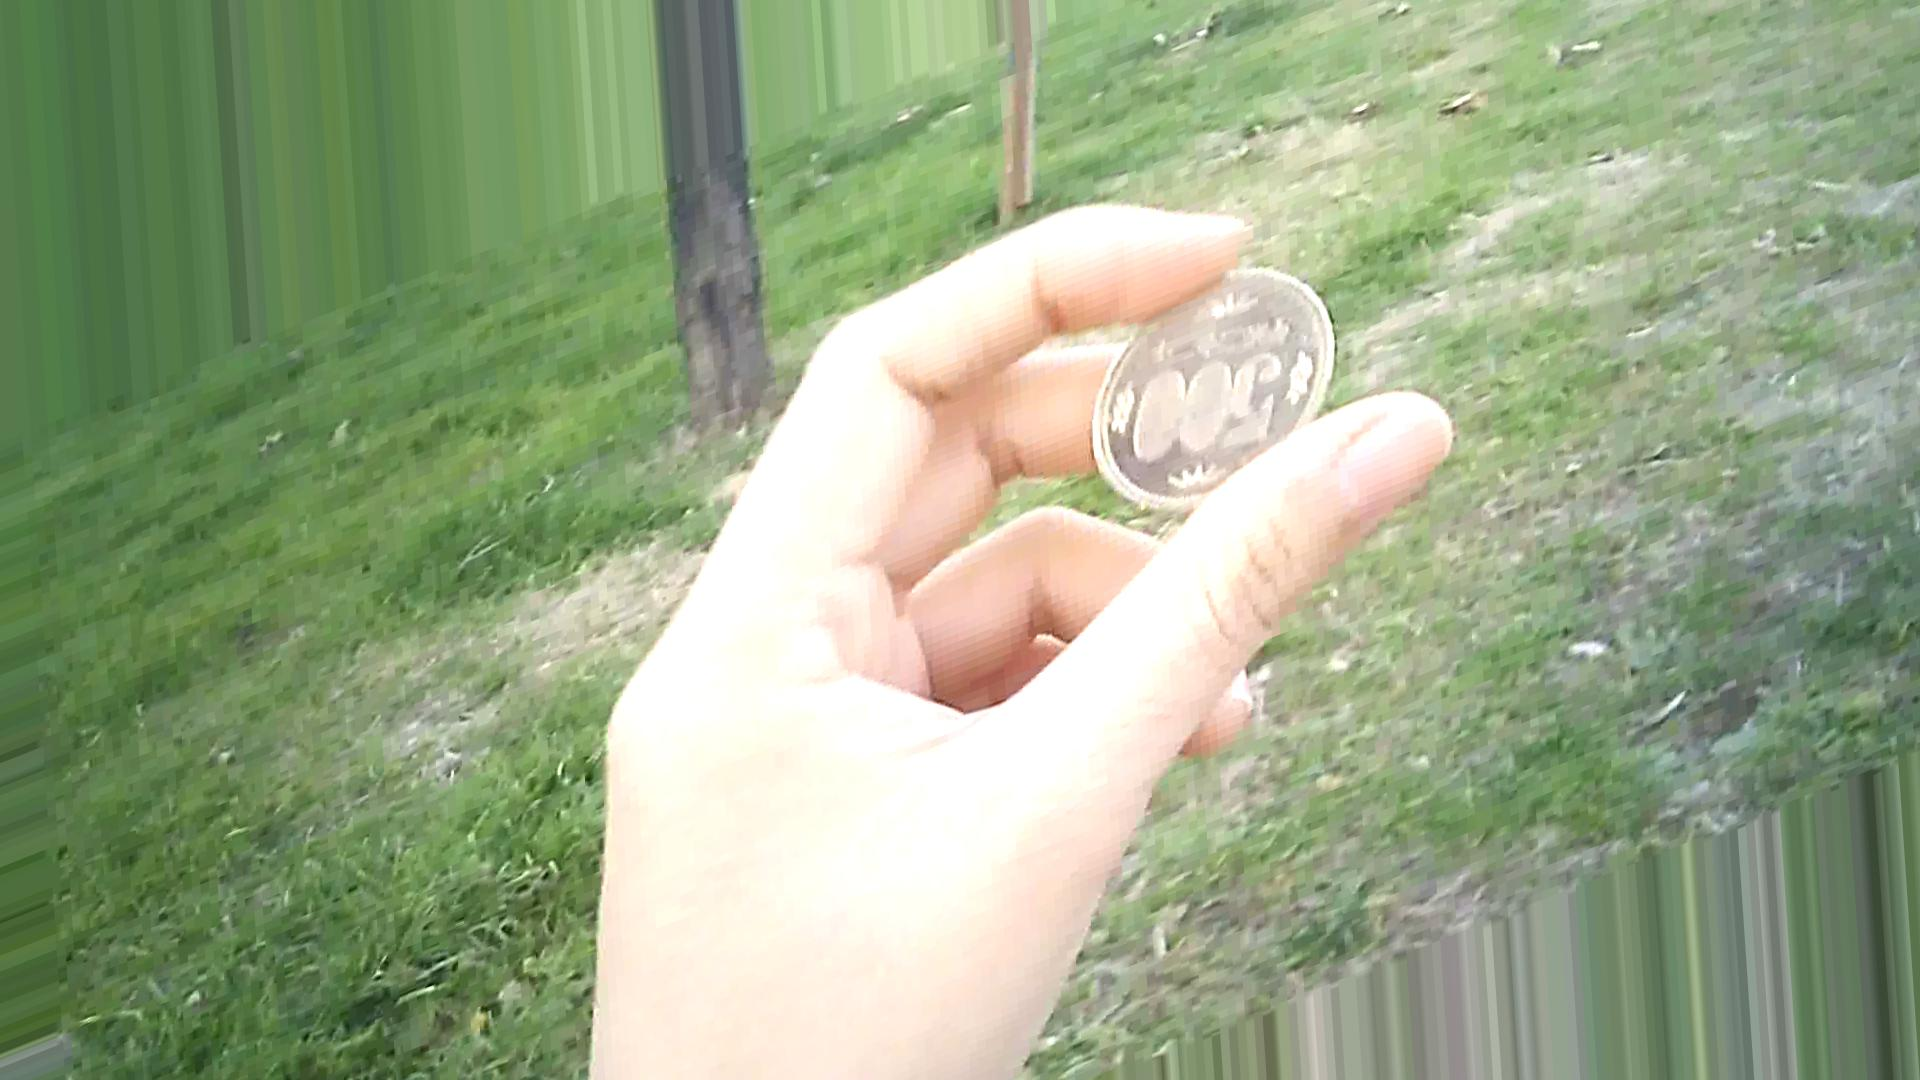500 Yen: (1091, 262, 1320, 516)
